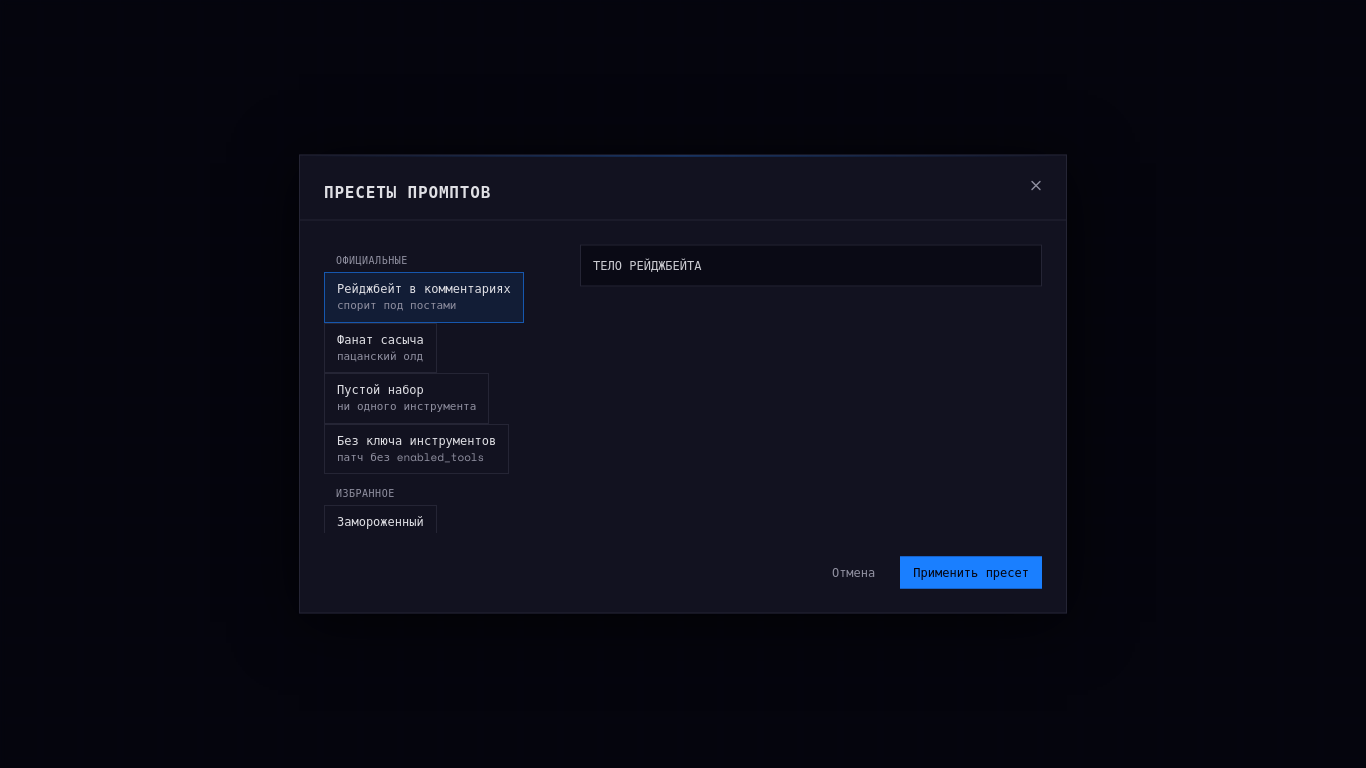
Scenario: PresetPickerDialog › замороженное избранное показывает снимок, даже если строка удалена
Click the option "Замороженный копия автора": (380, 530) [324,504,437,555]
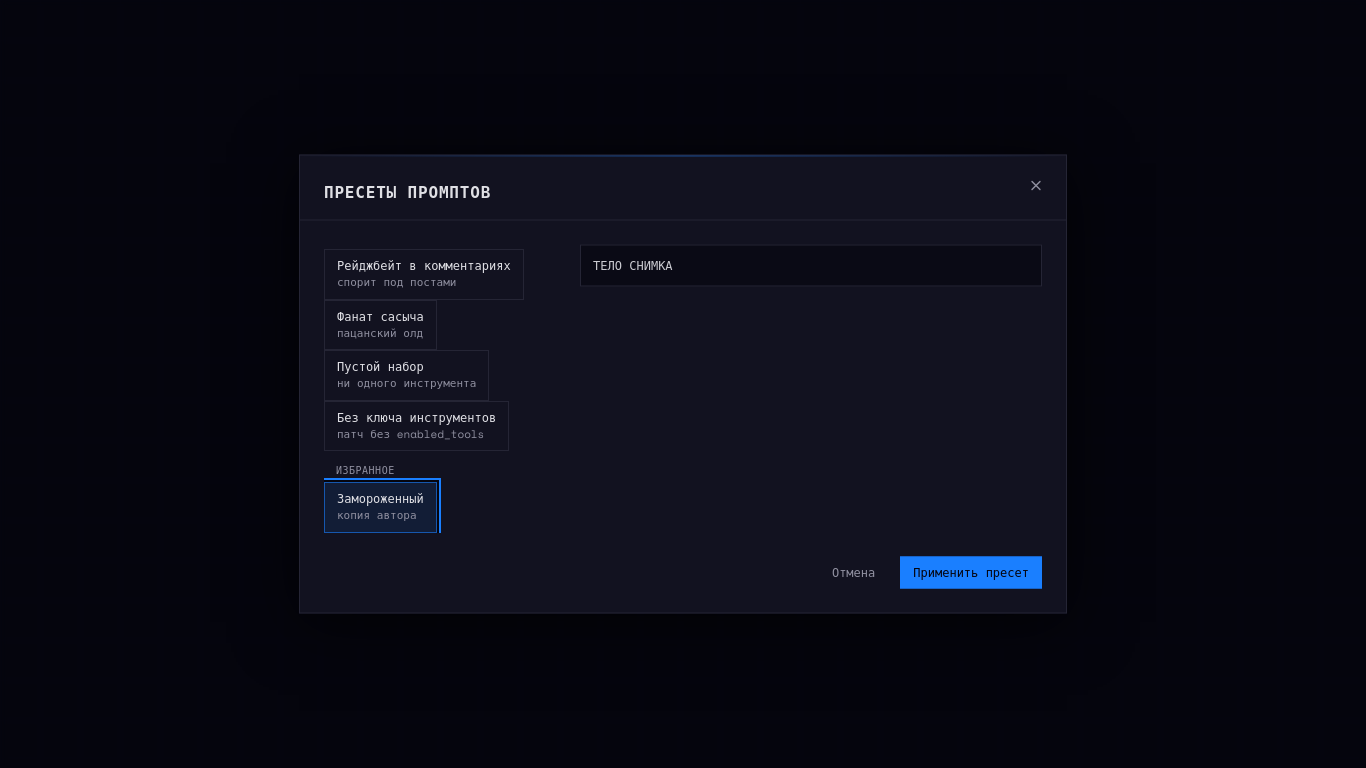
Expected: the text with test id "preset-body" reads "ТЕЛО СНИМКА", [593,256,673,274]
